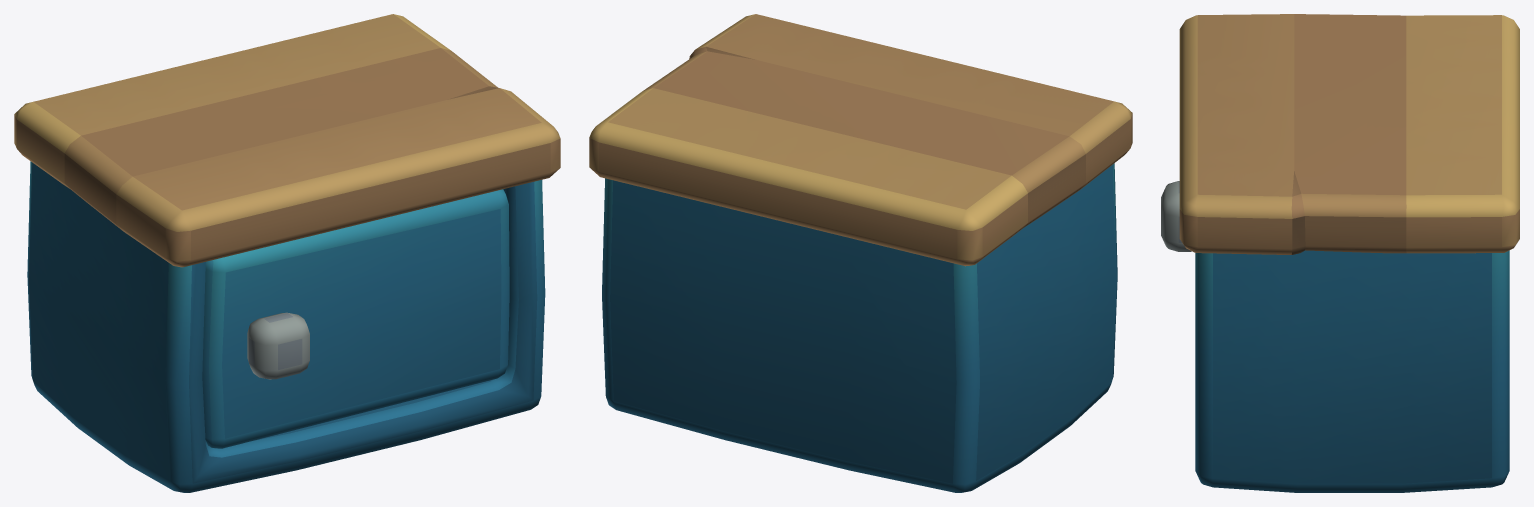
Rendered from kitchen_counter1_LOD_setup.fbx.
3 renders of one model, left to right at view 1: azimuth 30°, elevation 25°; view 2: azimuth 150°, elevation 25°; view 3: azimuth 270°, elevation 25°, orthographic. The views are drawn at different scales.
Visible parts, largest first — view 1: kitchen_counter1_LOD0, kitchen_counter1_door_LOD0; view 2: kitchen_counter1_LOD0; view 3: kitchen_counter1_LOD0, kitchen_counter1_door_LOD0.
Boxes of the visible parts, x1=… form: kitchen_counter1_LOD0: x1=14, y1=14, x2=560, y2=492; kitchen_counter1_door_LOD0: x1=202, y1=189, x2=509, y2=448; kitchen_counter1_LOD0: x1=589, y1=14, x2=1132, y2=492; kitchen_counter1_LOD0: x1=1179, y1=14, x2=1519, y2=492; kitchen_counter1_door_LOD0: x1=1161, y1=181, x2=1191, y2=251.
Size of what is drawn, in the model's own units: 108 by 76.82 by 82.11.
